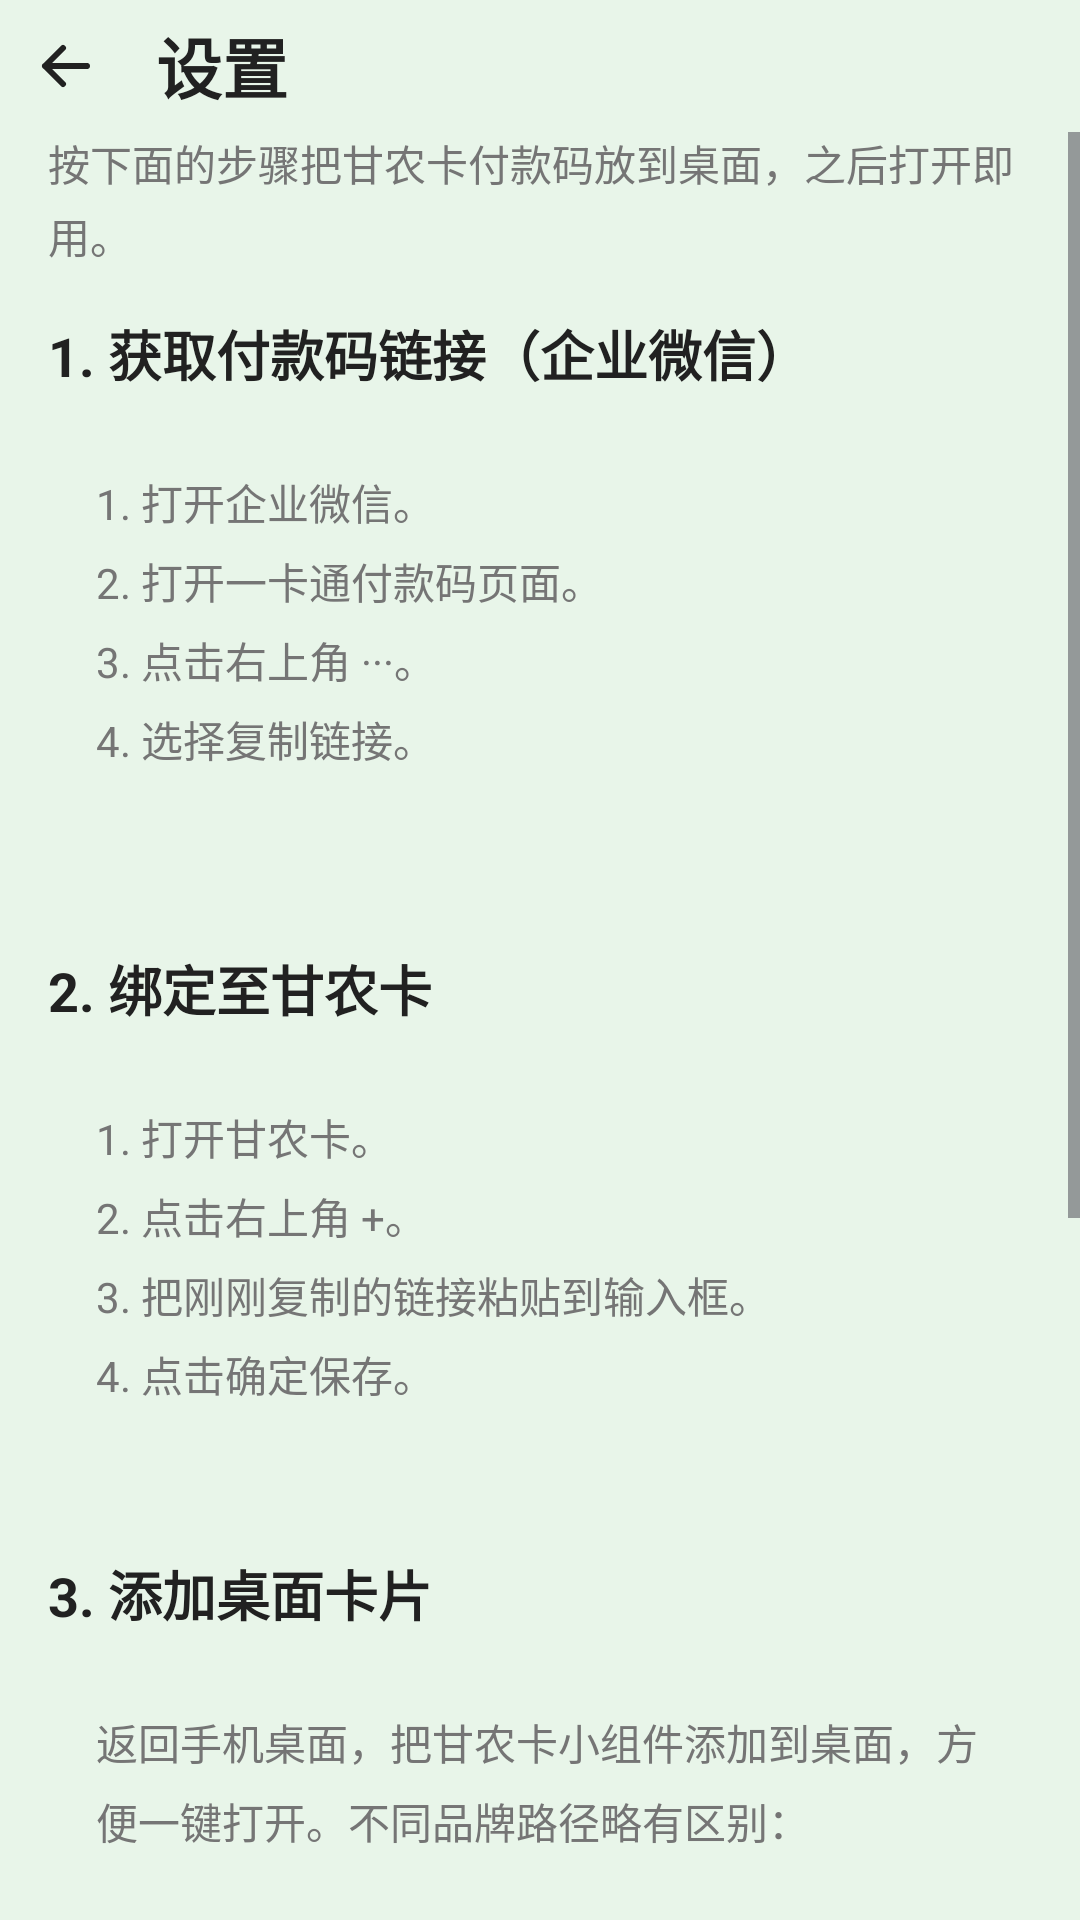

Point at icon controls on the screen. Image size 1080 x 1920, points as [x,y].
返回主页: [66,66]
